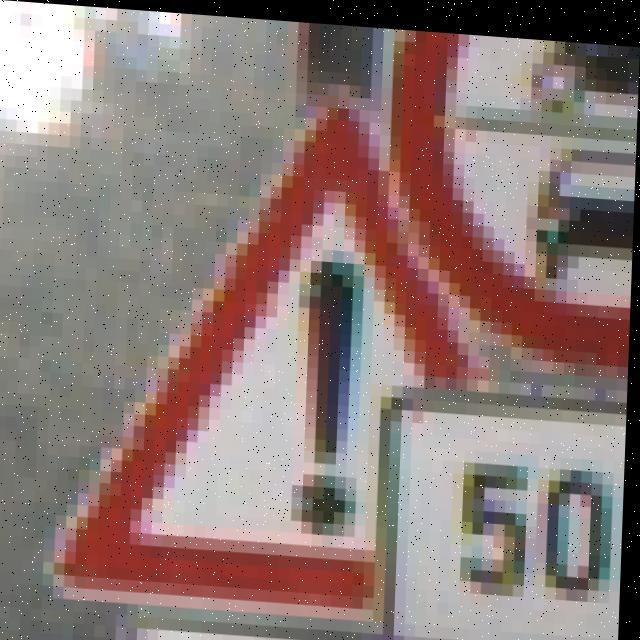speed_limit_50: (405, 398, 626, 640)
warning: (98, 141, 402, 585)
